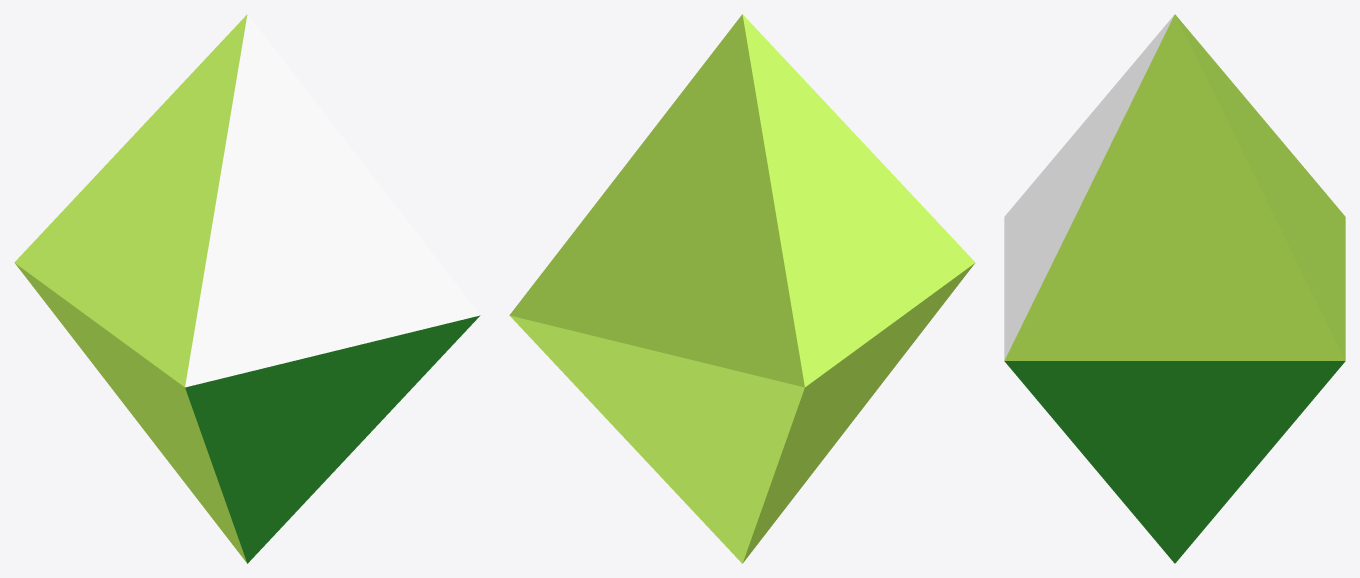
Rendered from refill_gem.glb.
The picture shows the model from 3 angles, left to right: view 1: azimuth 30°, elevation 25°; view 2: azimuth 150°, elevation 25°; view 3: azimuth 270°, elevation 25°; orthographic projection.
Visible parts, largest first — view 1: Refill; view 2: Refill; view 3: Refill.
Part boxes in pixels (x1,y1,x2,y2): Refill: [14, 14, 480, 563]; Refill: [509, 14, 975, 563]; Refill: [1004, 14, 1345, 563].
Bounding box in the file's own units: 3.38 × 6 × 3.38.
1 material, 1 textured.
